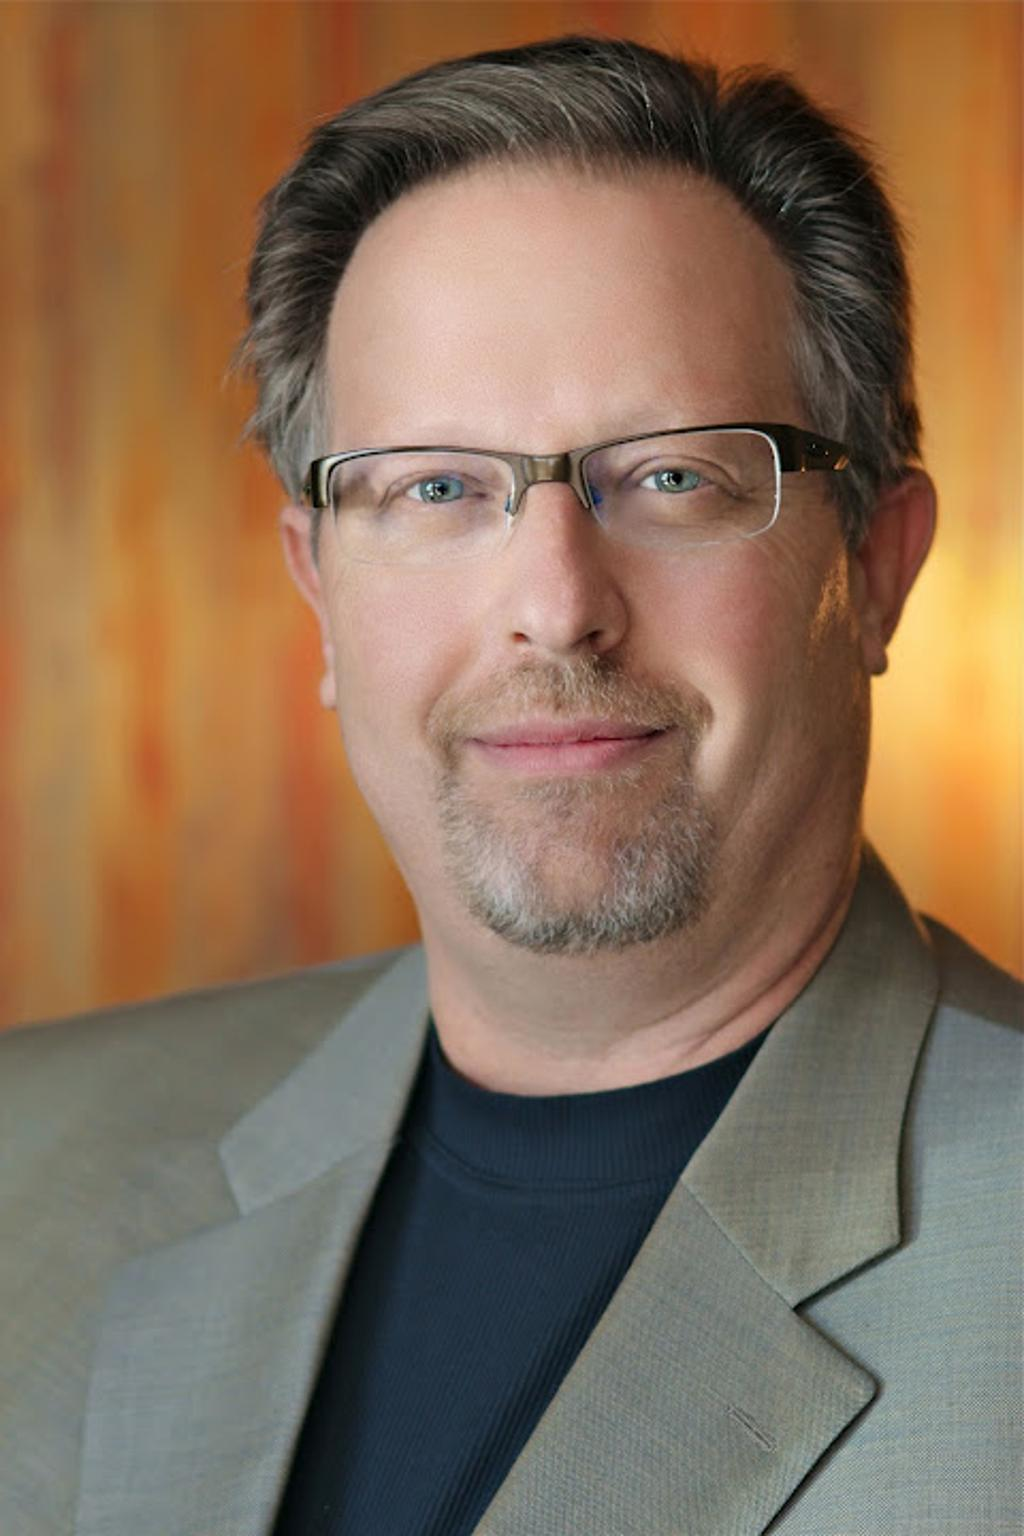face: (324, 168, 859, 934)
